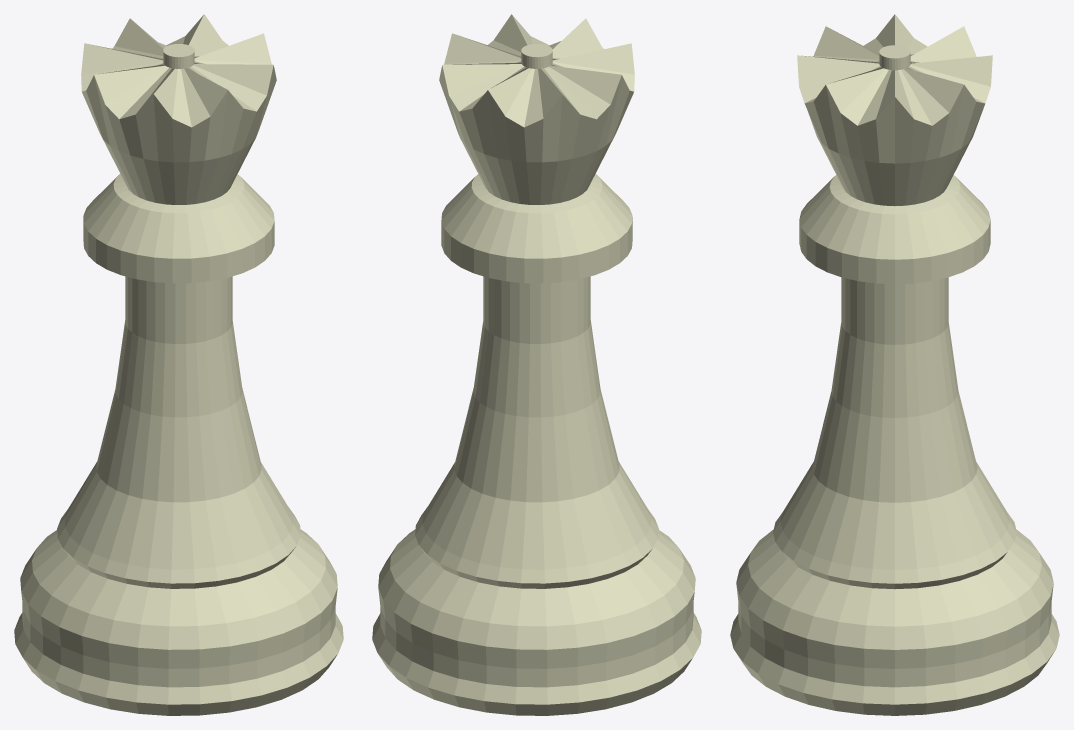
File: queen.gltf
3 renders of one model, left to right at view 1: azimuth 30°, elevation 25°; view 2: azimuth 150°, elevation 25°; view 3: azimuth 270°, elevation 25°, orthographic.
Parts seen in each view (by area): view 1: Circle; view 2: Circle; view 3: Circle.
Boxes of the visible parts, x1,y1,x2,y2 form: Circle: (14, 14, 343, 715); Circle: (372, 14, 701, 715); Circle: (730, 14, 1059, 715).
Size of the model in its own units: 1.83 by 3.66 by 1.83.
